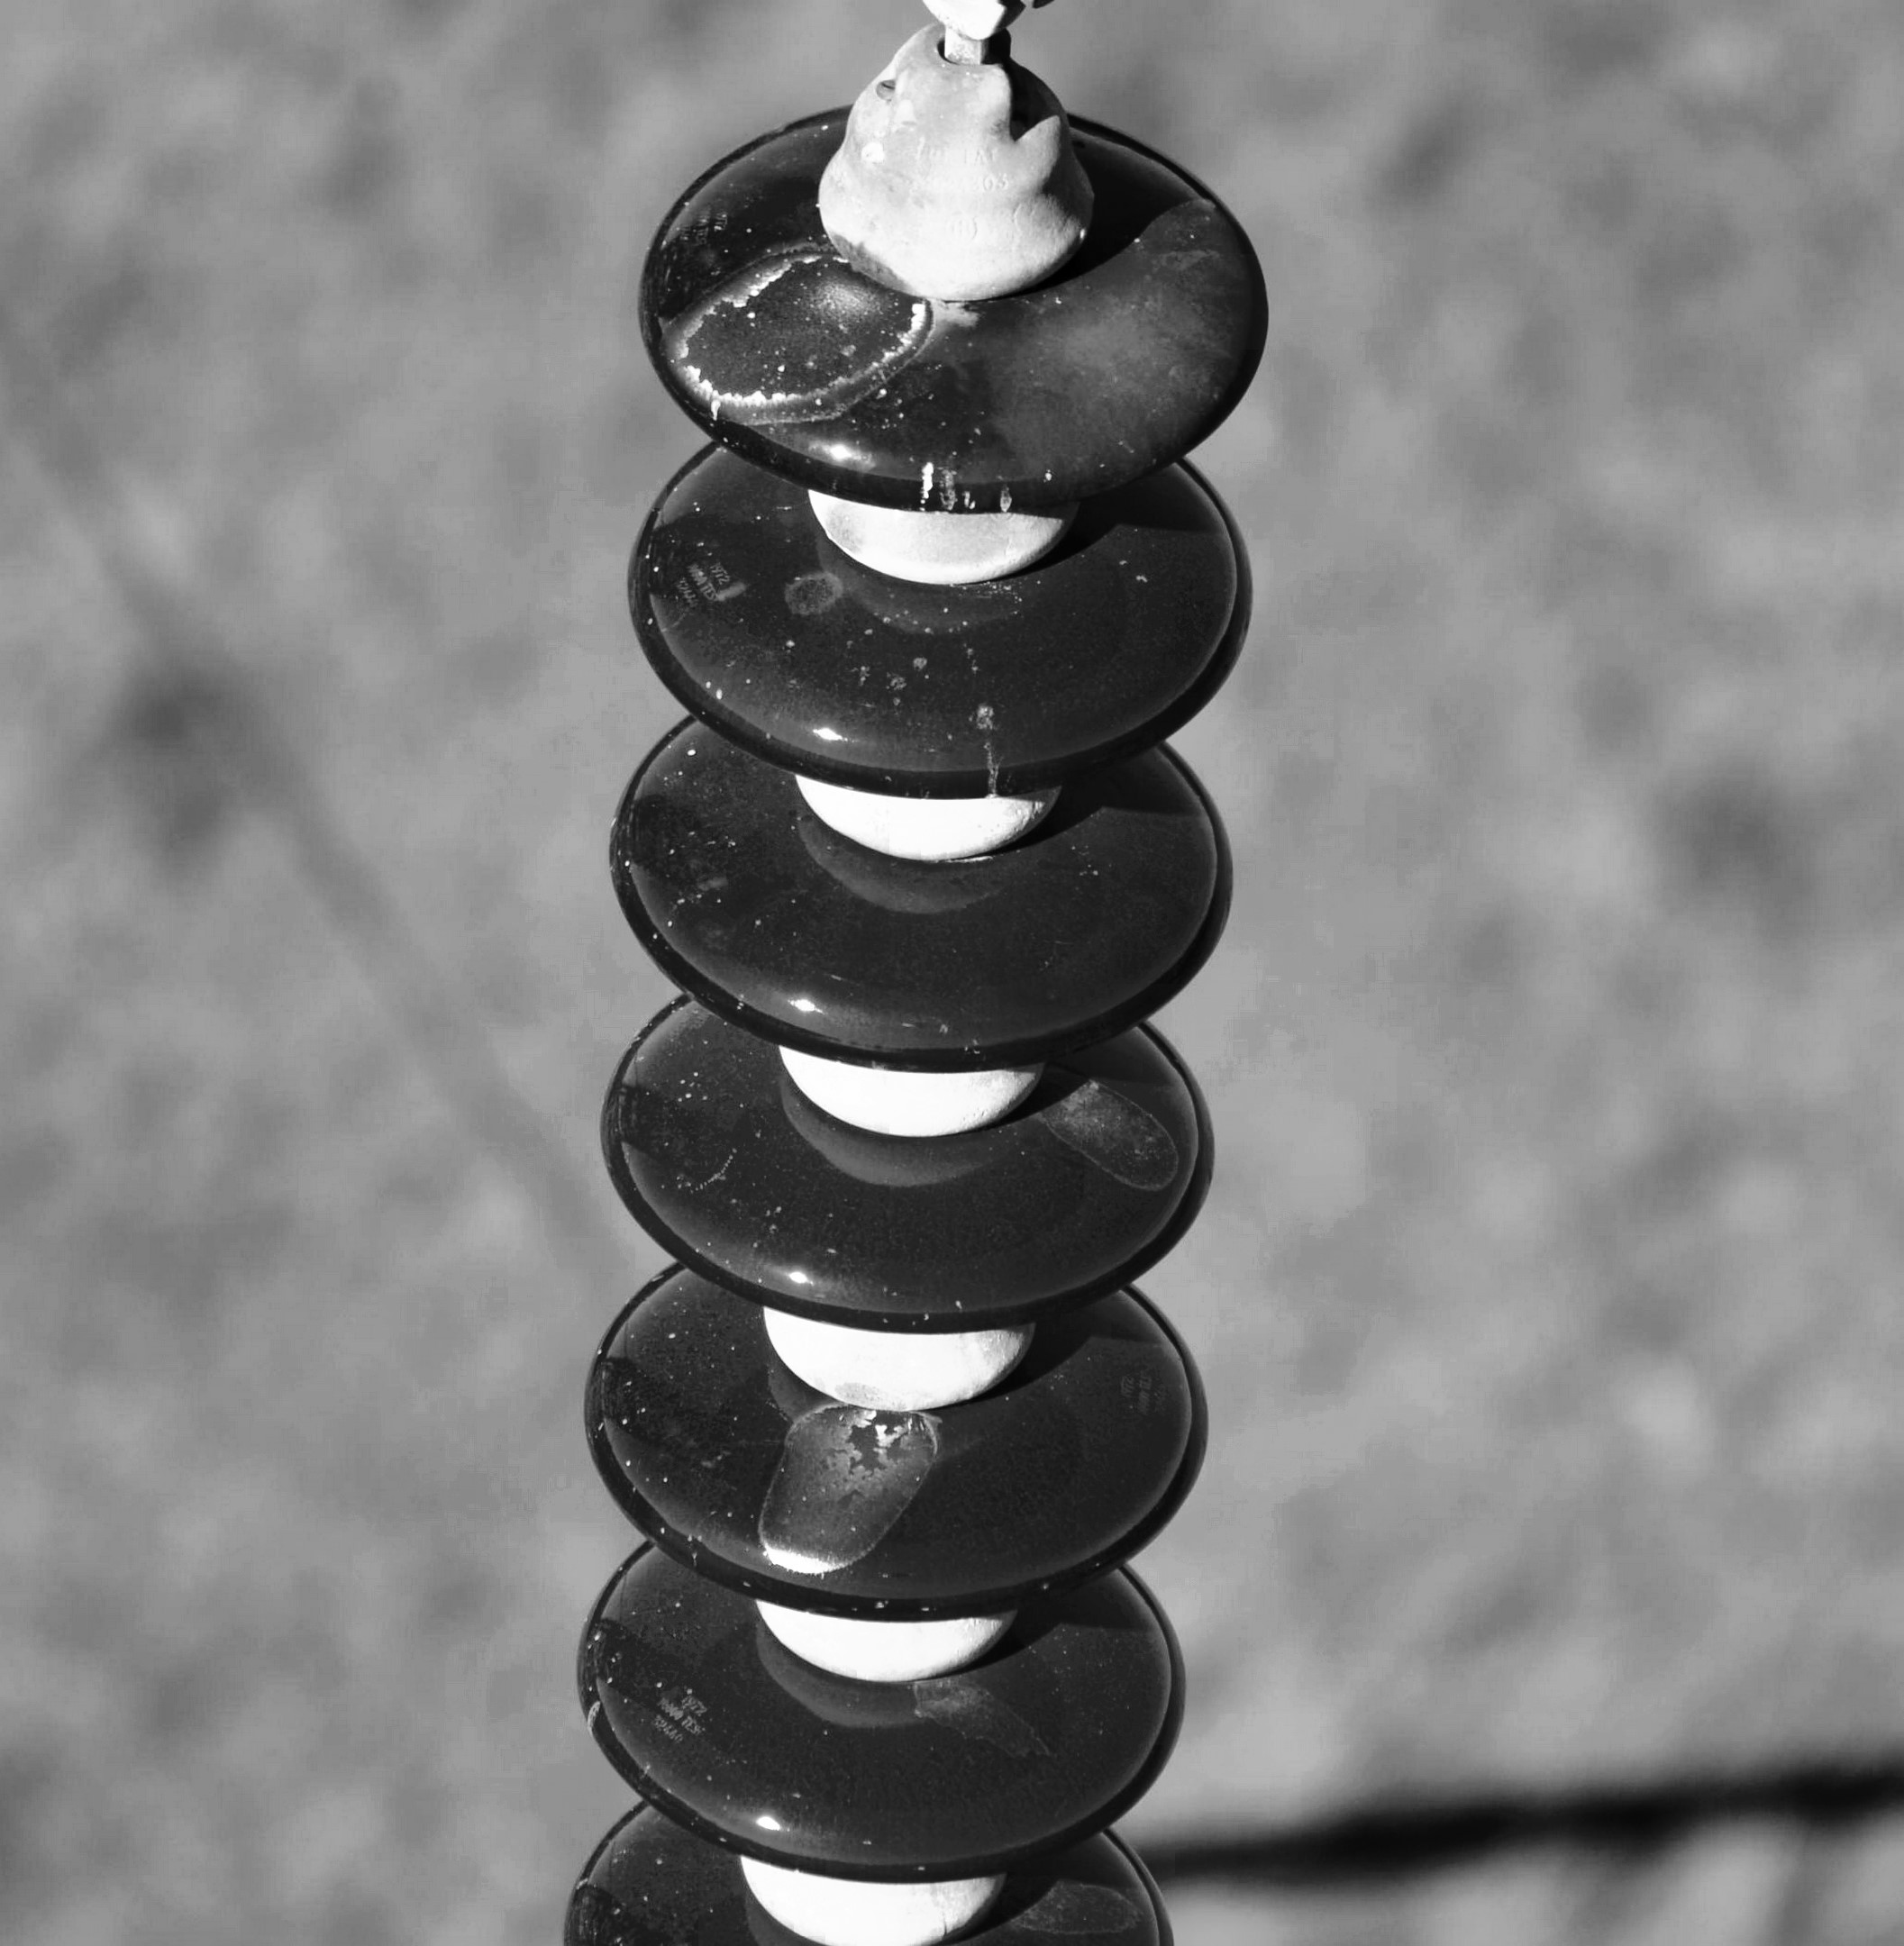Insulator flashover: (622, 89, 1280, 521)
